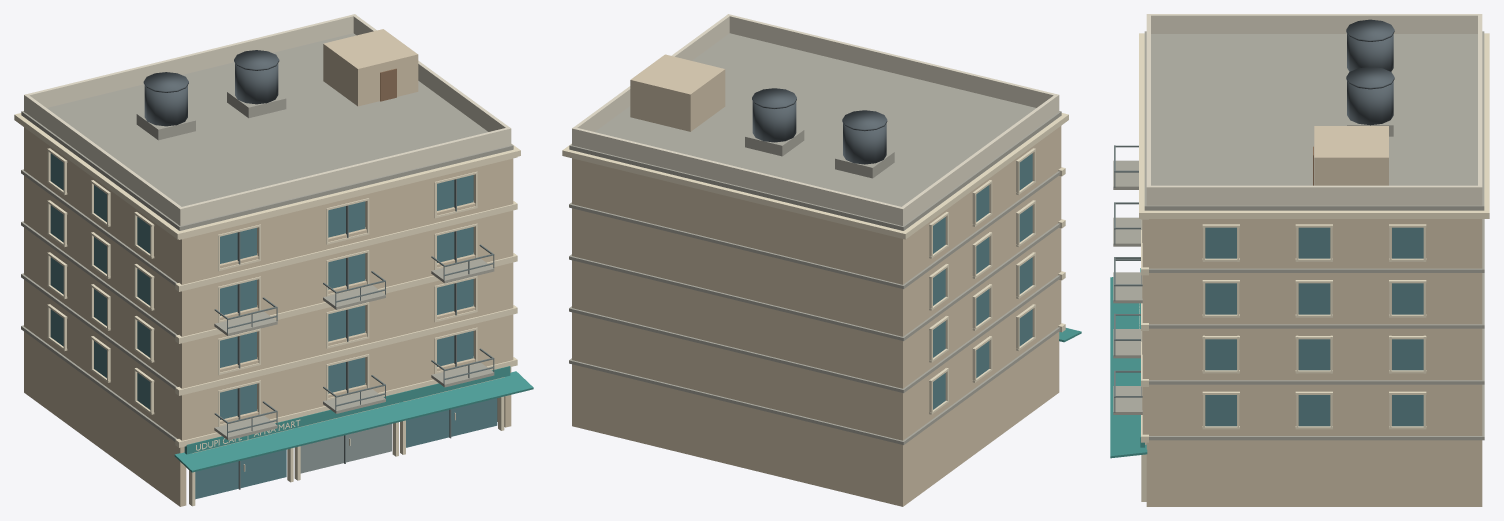
Rendered from corner-shop-medium.glb.
3 views of the same model, side by side, from view 1: azimuth 30°, elevation 25°; view 2: azimuth 150°, elevation 25°; view 3: azimuth 270°, elevation 25° (orthographic). The views are drawn at different scales.
Visible parts, largest first — view 1: corner-shop_PLASTER, corner-shop_CONCRETE, corner-shop_CREAM, corner-shop_GLASS, corner-shop_PLASTER_LIGHT, corner-shop_AWNING, corner-shop_TANK, corner-shop_METAL, corner-shop_SHUTTER; view 2: corner-shop_PLASTER, corner-shop_CONCRETE, corner-shop_PLASTER_LIGHT, corner-shop_CREAM, corner-shop_GLASS, corner-shop_TANK; view 3: corner-shop_PLASTER, corner-shop_CONCRETE, corner-shop_PLASTER_LIGHT, corner-shop_GLASS, corner-shop_CREAM, corner-shop_TANK, corner-shop_AWNING, corner-shop_METAL.
Boxes of the visible parts, x1=… form: corner-shop_PLASTER: x1=24, y1=29, x2=513, y2=506; corner-shop_CONCRETE: x1=21, y1=33, x2=513, y2=441; corner-shop_CREAM: x1=14, y1=113, x2=520, y2=506; corner-shop_GLASS: x1=50, y1=153, x2=497, y2=499; corner-shop_PLASTER_LIGHT: x1=24, y1=14, x2=511, y2=225; corner-shop_AWNING: x1=174, y1=366, x2=533, y2=472; corner-shop_TANK: x1=143, y1=50, x2=279, y2=126; corner-shop_METAL: x1=214, y1=179, x2=494, y2=489; corner-shop_SHUTTER: x1=300, y1=424, x2=391, y2=473; corner-shop_PLASTER: x1=572, y1=54, x2=1061, y2=506; corner-shop_CONCRETE: x1=569, y1=33, x2=1061, y2=445; corner-shop_PLASTER_LIGHT: x1=572, y1=14, x2=1059, y2=225; corner-shop_CREAM: x1=562, y1=113, x2=1068, y2=414; corner-shop_GLASS: x1=933, y1=153, x2=1032, y2=409; corner-shop_TANK: x1=752, y1=88, x2=887, y2=164; corner-shop_PLASTER: x1=1142, y1=126, x2=1482, y2=506; corner-shop_CONCRETE: x1=1113, y1=31, x2=1484, y2=440; corner-shop_PLASTER_LIGHT: x1=1146, y1=14, x2=1482, y2=205; corner-shop_GLASS: x1=1205, y1=227, x2=1423, y2=426; corner-shop_CREAM: x1=1139, y1=33, x2=1489, y2=501; corner-shop_TANK: x1=1346, y1=19, x2=1394, y2=125; corner-shop_AWNING: x1=1110, y1=268, x2=1147, y2=458; corner-shop_METAL: x1=1114, y1=145, x2=1142, y2=412.
Size of the model in its own units: 22.8 by 20.76 by 20.35.
